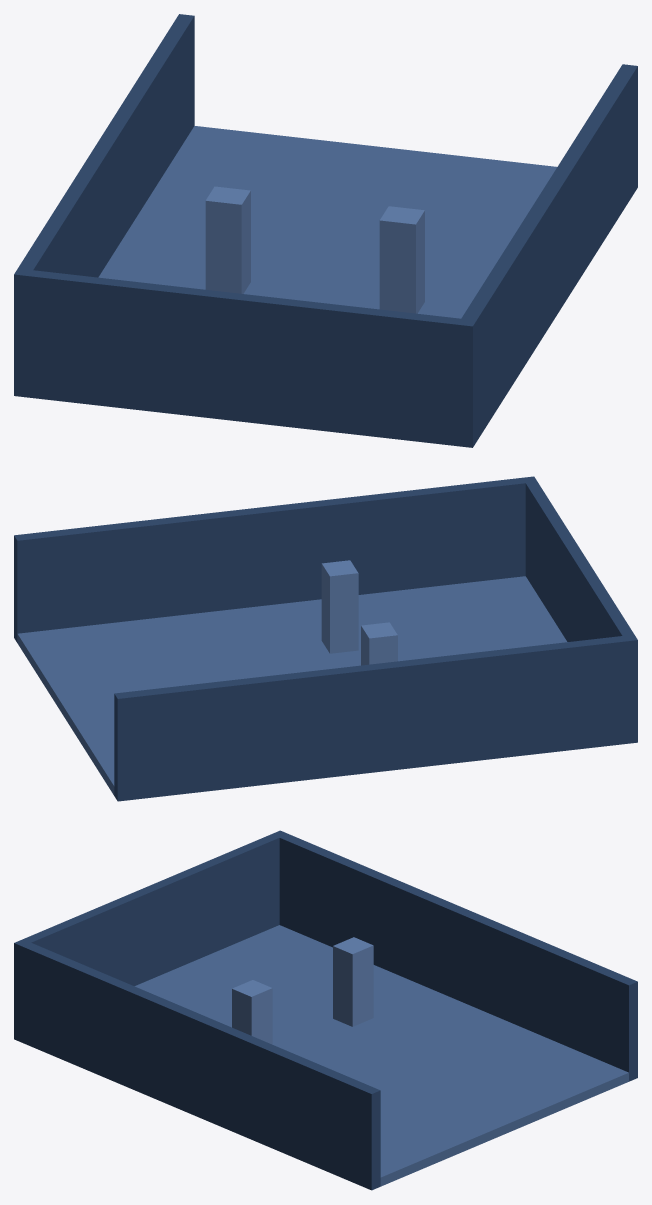
Rendered from arena_01.glb.
3 renders of one model, top to bottom at view 1: azimuth 30°, elevation 25°; view 2: azimuth 150°, elevation 25°; view 3: azimuth 270°, elevation 25°, orthographic. The views are drawn at different scales.
Visible parts, largest first — view 1: arena; view 2: arena; view 3: arena.
Boxes of the visible parts, bbox=[...] form: arena: bbox=[14, 14, 637, 447]; arena: bbox=[14, 476, 637, 801]; arena: bbox=[14, 830, 637, 1190].
Bounding box in the file's own units: 15.56 × 2.65 × 15.56.
